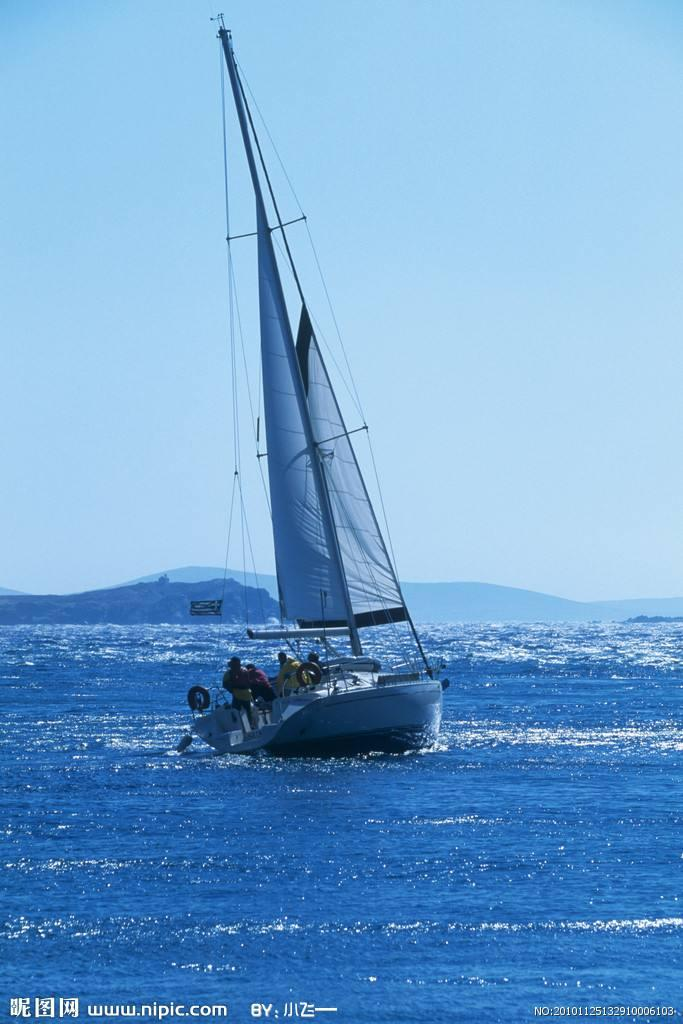fanchuan: (174, 7, 462, 773)
